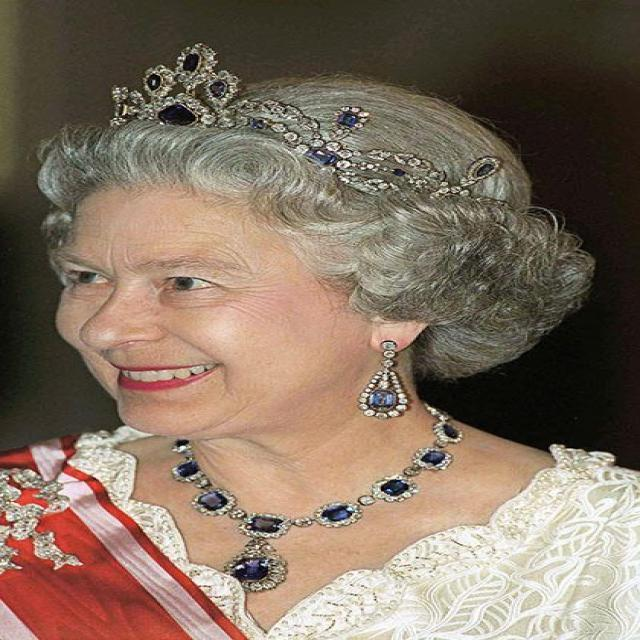Earring: (352, 328, 414, 428)
